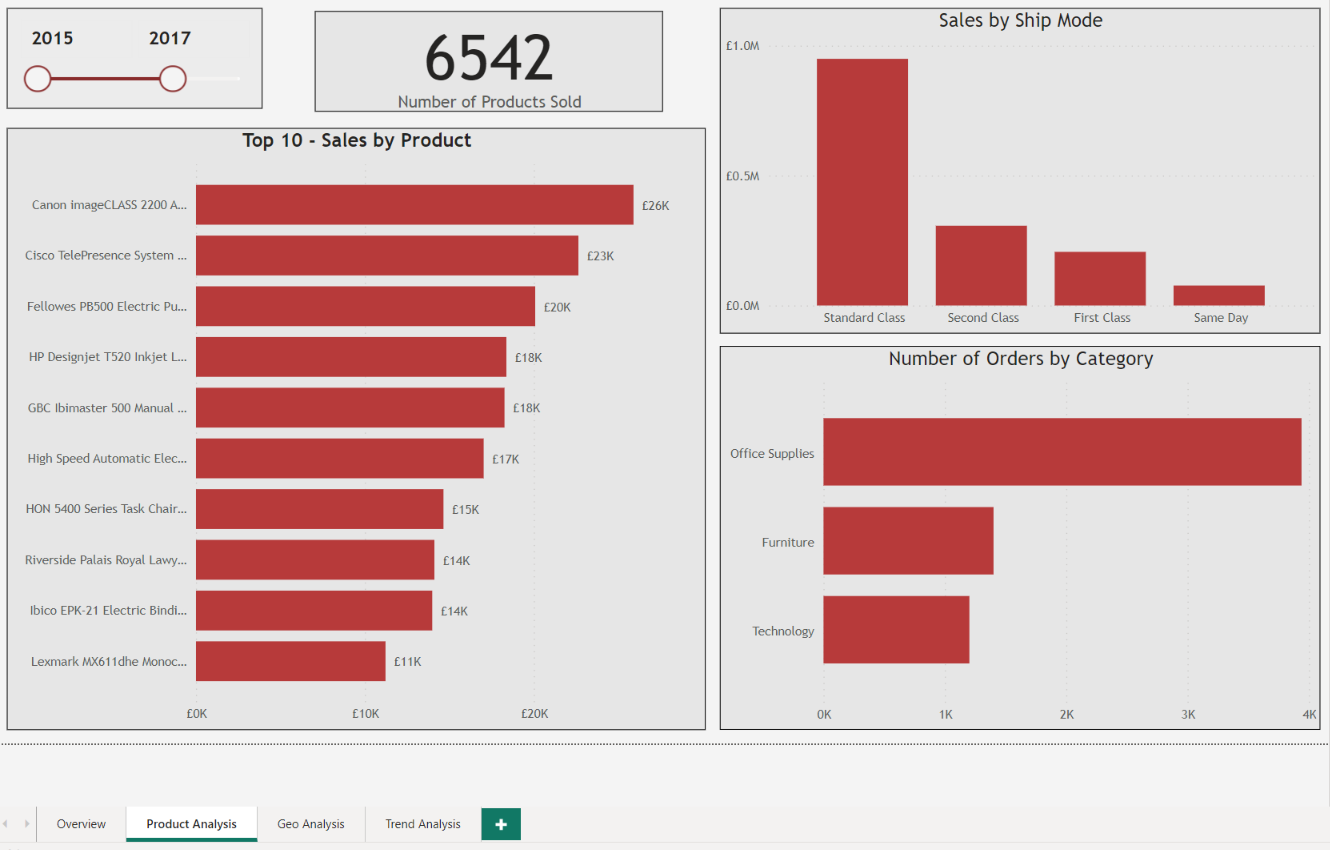

The page's visual inventory and layout, read from the dashboard file:
{"tool":"powerbi","page":{"name":"Product Analysis","canvas":[1280,720],"ordinal":1},"visuals":[{"type":"clusteredBarChart","title":"Top 10 - Sales by Product","fields":{"Category":["SuperstoreData.Product Name"],"Y":["Measures_Dim.Total Sales"]},"box":[9.6,128.7,671.3,578.2],"z":0},{"type":"clusteredBarChart","title":"Number of Orders by Category","fields":{"Y":["Measures_Dim.Total Number of Orders"],"Category":["SuperstoreData.Category","SuperstoreData.Sub-Category","SuperstoreData.Product Name"]},"box":[694.4,338.1,577.2,368.8],"z":1000},{"type":"clusteredColumnChart","title":"Sales by Ship Mode","fields":{"Y":["Sum(SuperstoreData.Sales)"],"Category":["SuperstoreData.Ship Mode"]},"box":[694.4,13.4,577.2,313.1],"z":2000},{"type":"slicer","fields":{"Values":["SuperstoreData.Order Date.Variation.Date Hierarchy.Year"]},"box":[9.6,13.4,245.9,97],"z":3000},{"type":"card","fields":{"Values":["Measures_Dim.Number of Products"]},"box":[305.4,16.3,334.2,97],"z":4000}]}

Visuals, with their boxes on the page's 1280x720 design canvas (x1, y1, x2, y2). These are canvas units, not pixel positions in the 1330x850 screenshot, which may show the page scaled, cropped or inside an application window:
"Top 10 - Sales by Product" clusteredBarChart: bbox(10, 129, 681, 707)
"Number of Orders by Category" clusteredBarChart: bbox(694, 338, 1272, 707)
"Sales by Ship Mode" clusteredColumnChart: bbox(694, 13, 1272, 326)
slicer - SuperstoreData.Order Date.Variation.Date Hierarchy.Year: bbox(10, 13, 256, 110)
card - Measures_Dim.Number of Products: bbox(305, 16, 640, 113)
